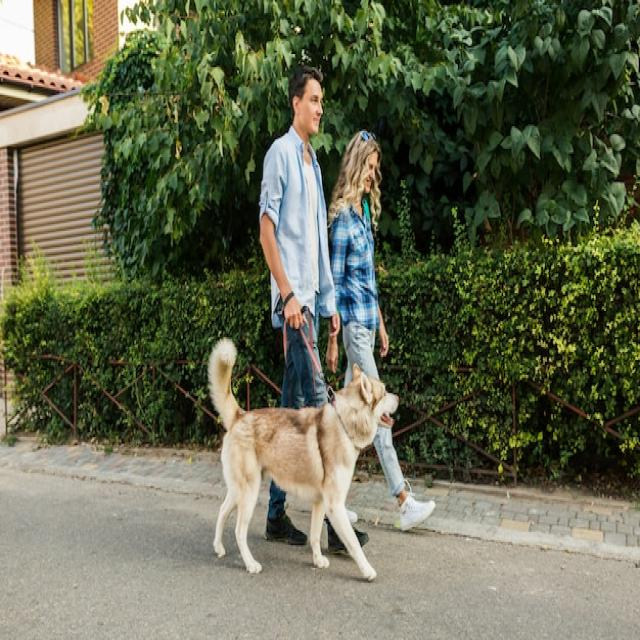Dog: (208, 339, 399, 583)
Person: (260, 65, 369, 553), (328, 130, 436, 531)
